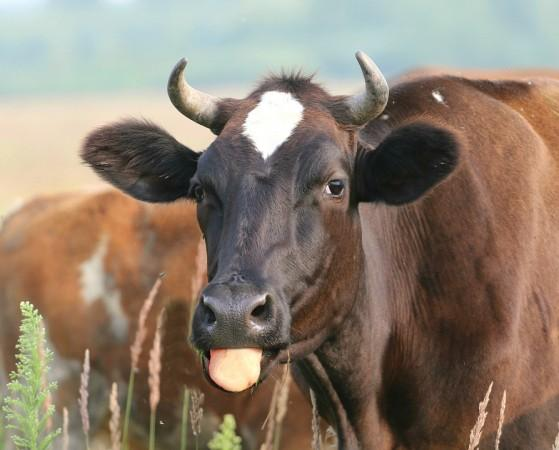muzzles: (181, 280, 298, 397)
